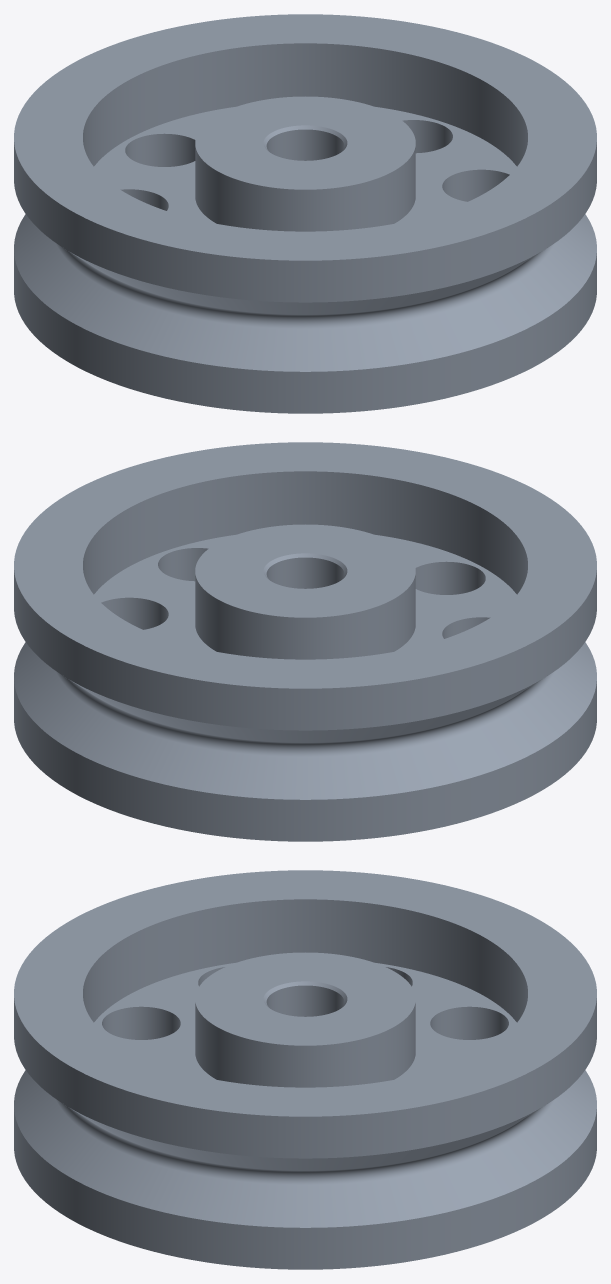
Rendered from ax_v_pulley.glb.
3 renders of one model, top to bottom at view 1: azimuth 30°, elevation 25°; view 2: azimuth 150°, elevation 25°; view 3: azimuth 270°, elevation 25°, orthographic.
Visible parts, largest first — view 1: V-belt pulley; view 2: V-belt pulley; view 3: V-belt pulley.
Boxes of the visible parts, left/top/right/bottom form: V-belt pulley: left=14, top=14, right=596, bottom=413; V-belt pulley: left=14, top=442, right=596, bottom=841; V-belt pulley: left=14, top=870, right=596, bottom=1269.
Size of the model in its own units: 143 by 41.4 by 143.
